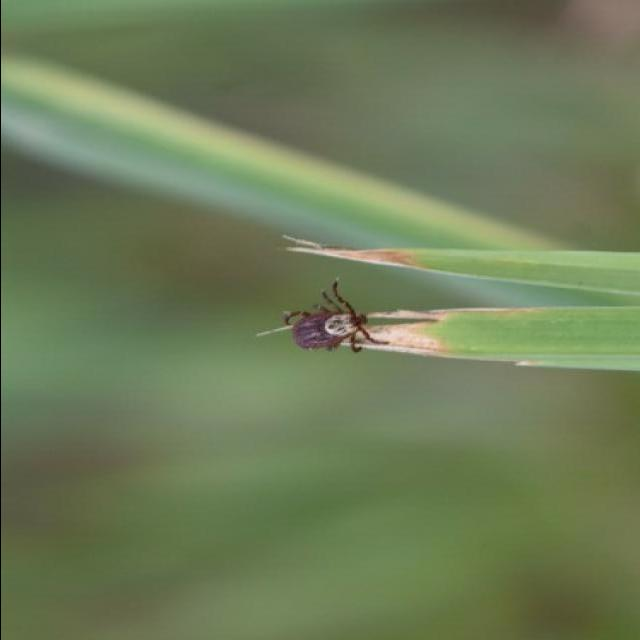Dermacentor Reticulatus-F: (276, 279, 375, 352)
